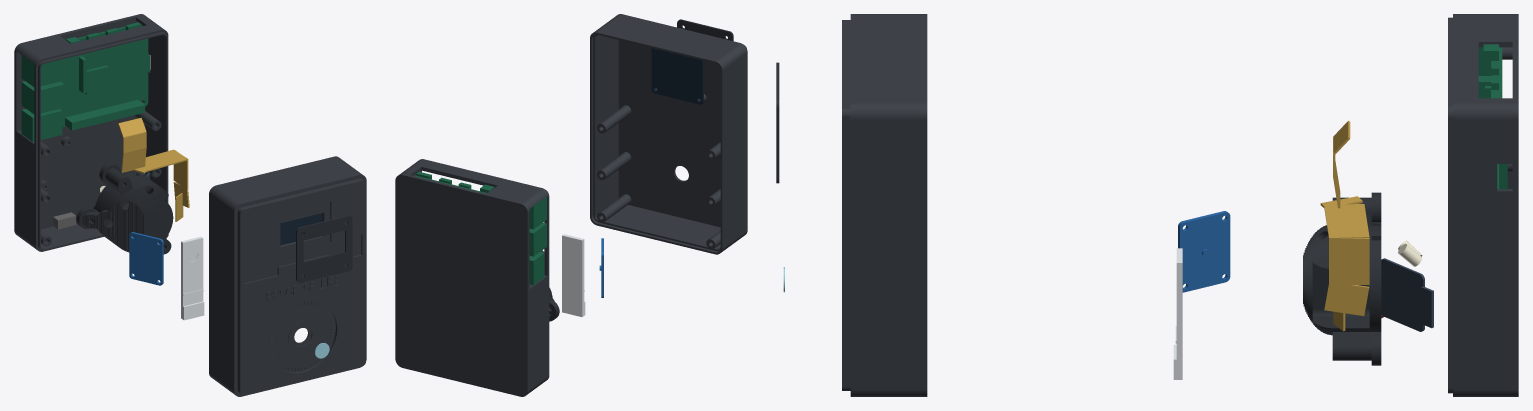
The model's file is exploded.glb.
3 renders of one model, left to right at view 1: azimuth 30°, elevation 25°; view 2: azimuth 150°, elevation 25°; view 3: azimuth 270°, elevation 25°, orthographic. The views are drawn at different scales.
Visible parts, largest first — view 1: shell_upper, shell_lower, mock_pi4b, optical_head, mock_csi_ribbon, oled_bezel, mock_cartridge, mock_as7341, mock_oled, mock_switch; view 2: shell_upper, shell_lower, mock_oled, mock_cartridge, mock_pi4b, oled_bezel; view 3: shell_upper, shell_lower, optical_head, mock_csi_ribbon, mock_as7341, mock_camera, mock_pi4b, mock_cartridge.
Part boxes in pixels (x1,y1,x2,y2): shell_upper: (209,156,366,396); shell_lower: (14,14,168,251); mock_pi4b: (21,22,149,141); optical_head: (76,163,173,254); mock_csi_ribbon: (118,117,189,221); oled_bezel: (296,215,352,282); mock_cartridge: (181,236,204,320); mock_as7341: (129,232,163,285); mock_oled: (280,213,322,245); mock_switch: (53,212,76,229); shell_upper: (590,14,747,254); shell_lower: (395,159,549,396); mock_oled: (651,48,703,104); mock_cartridge: (562,234,585,316); mock_pi4b: (414,171,546,285); oled_bezel: (677,19,733,41); shell_upper: (842,14,927,396); shell_lower: (1448,14,1518,396); optical_head: (1303,192,1381,365); mock_csi_ribbon: (1320,120,1369,331); mock_as7341: (1178,211,1230,292); mock_camera: (1381,258,1433,331); mock_pi4b: (1478,44,1507,189); mock_cartridge: (1173,248,1182,379).
Size of the model in its own units: 92 by 137 by 294.
